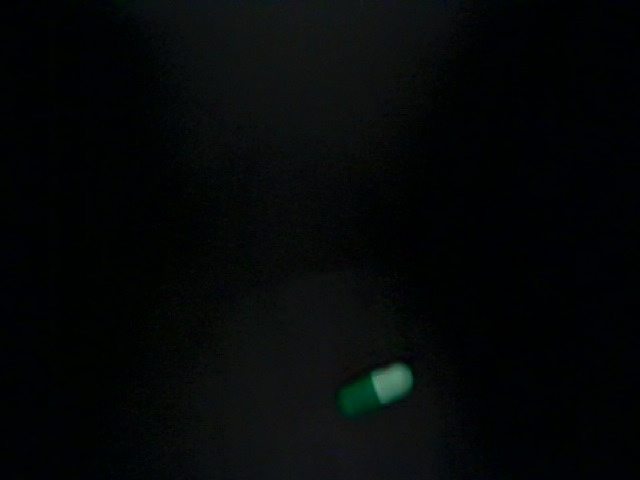YHLJ: (210, 13, 491, 152)
